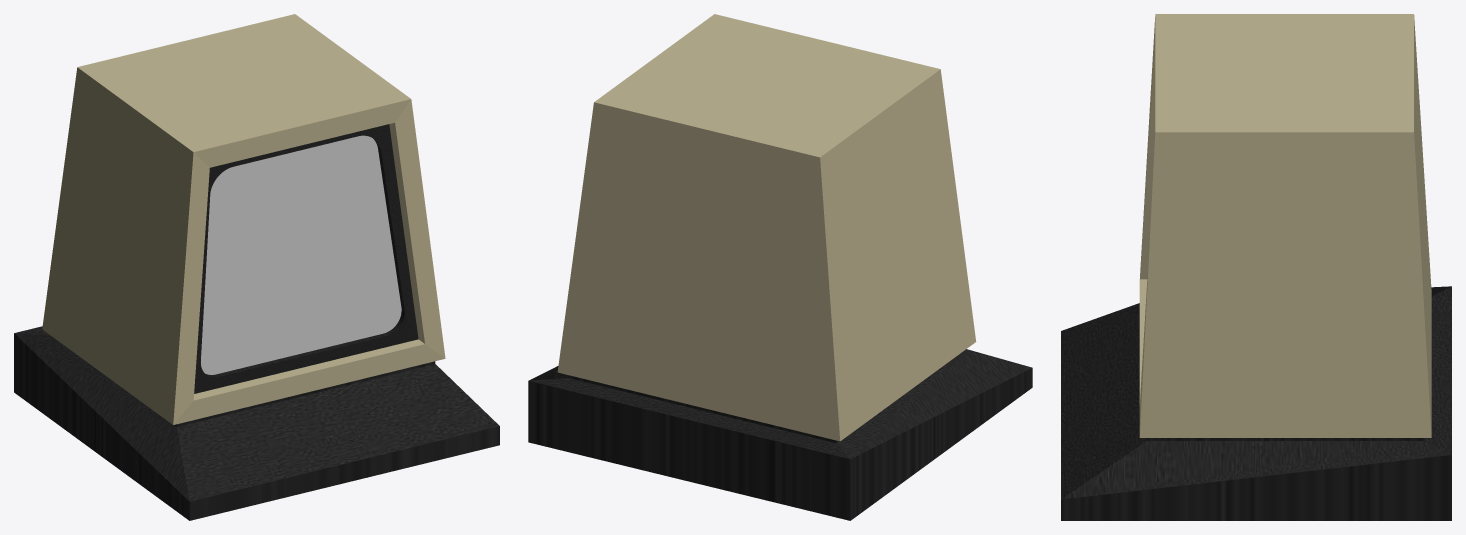
File: Computer.fbx
3 views of the same model, side by side, from view 1: azimuth 30°, elevation 25°; view 2: azimuth 150°, elevation 25°; view 3: azimuth 270°, elevation 25° (orthographic). The views are drawn at different scales.
Parts seen in each view (by area): view 1: Cube.004, Cube, Cube.001, Cube.003; view 2: Cube.004, Cube; view 3: Cube.004, Cube.
Boxes of the visible parts, x1=… form: Cube.004: x1=42, y1=14, x2=445, y2=424; Cube: x1=14, y1=326, x2=499, y2=520; Cube.001: x1=201, y1=135, x2=401, y2=374; Cube.003: x1=194, y1=124, x2=418, y2=393; Cube.004: x1=557, y1=14, x2=976, y2=441; Cube: x1=528, y1=349, x2=1032, y2=520; Cube.004: x1=1139, y1=14, x2=1431, y2=437; Cube: x1=1061, y1=286, x2=1451, y2=520.
Bounding box in the file's own units: 273 × 275 × 268.
